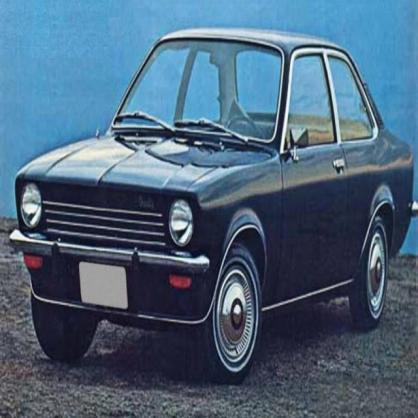car: (14, 26, 418, 385)
